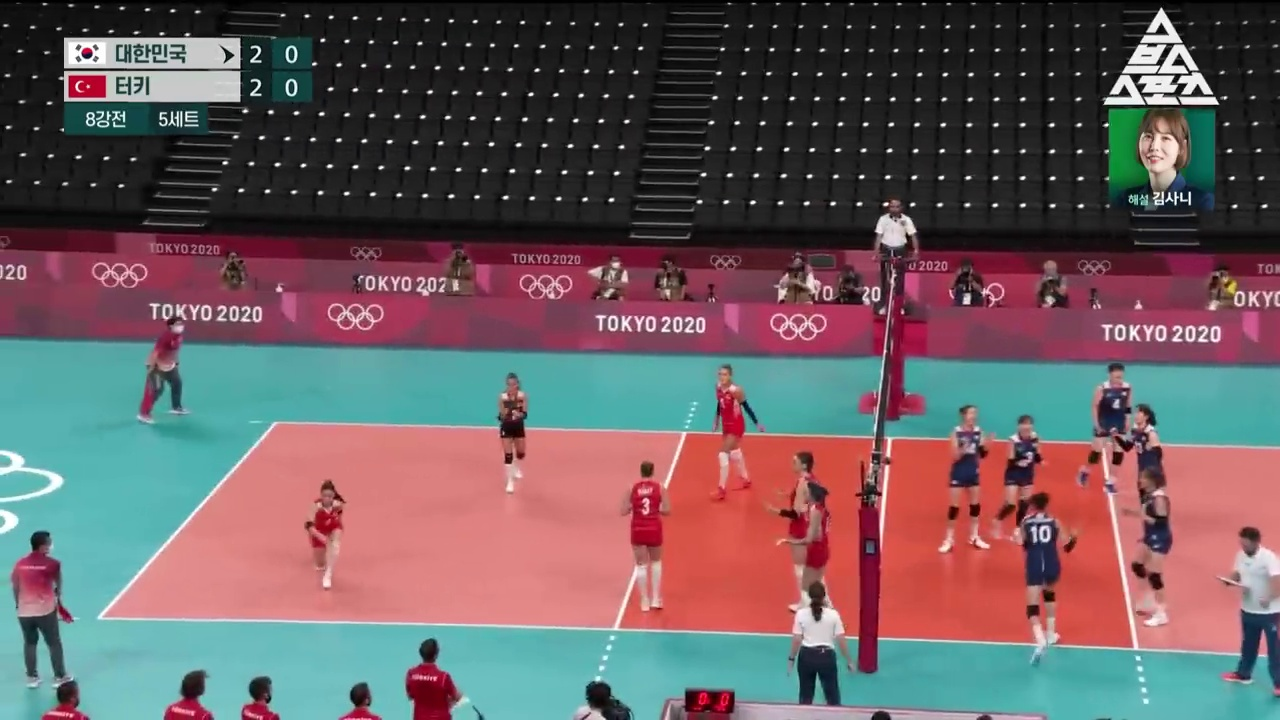player: (1021, 492, 1077, 666), (1123, 467, 1173, 626), (939, 405, 991, 552), (1076, 362, 1132, 494), (1110, 404, 1166, 532), (993, 415, 1045, 544)
player 1: (763, 452, 833, 611), (776, 483, 838, 621), (621, 460, 671, 612), (709, 365, 764, 499), (304, 479, 347, 588), (499, 373, 528, 493)
referee: (787, 581, 855, 704), (873, 200, 918, 315)
